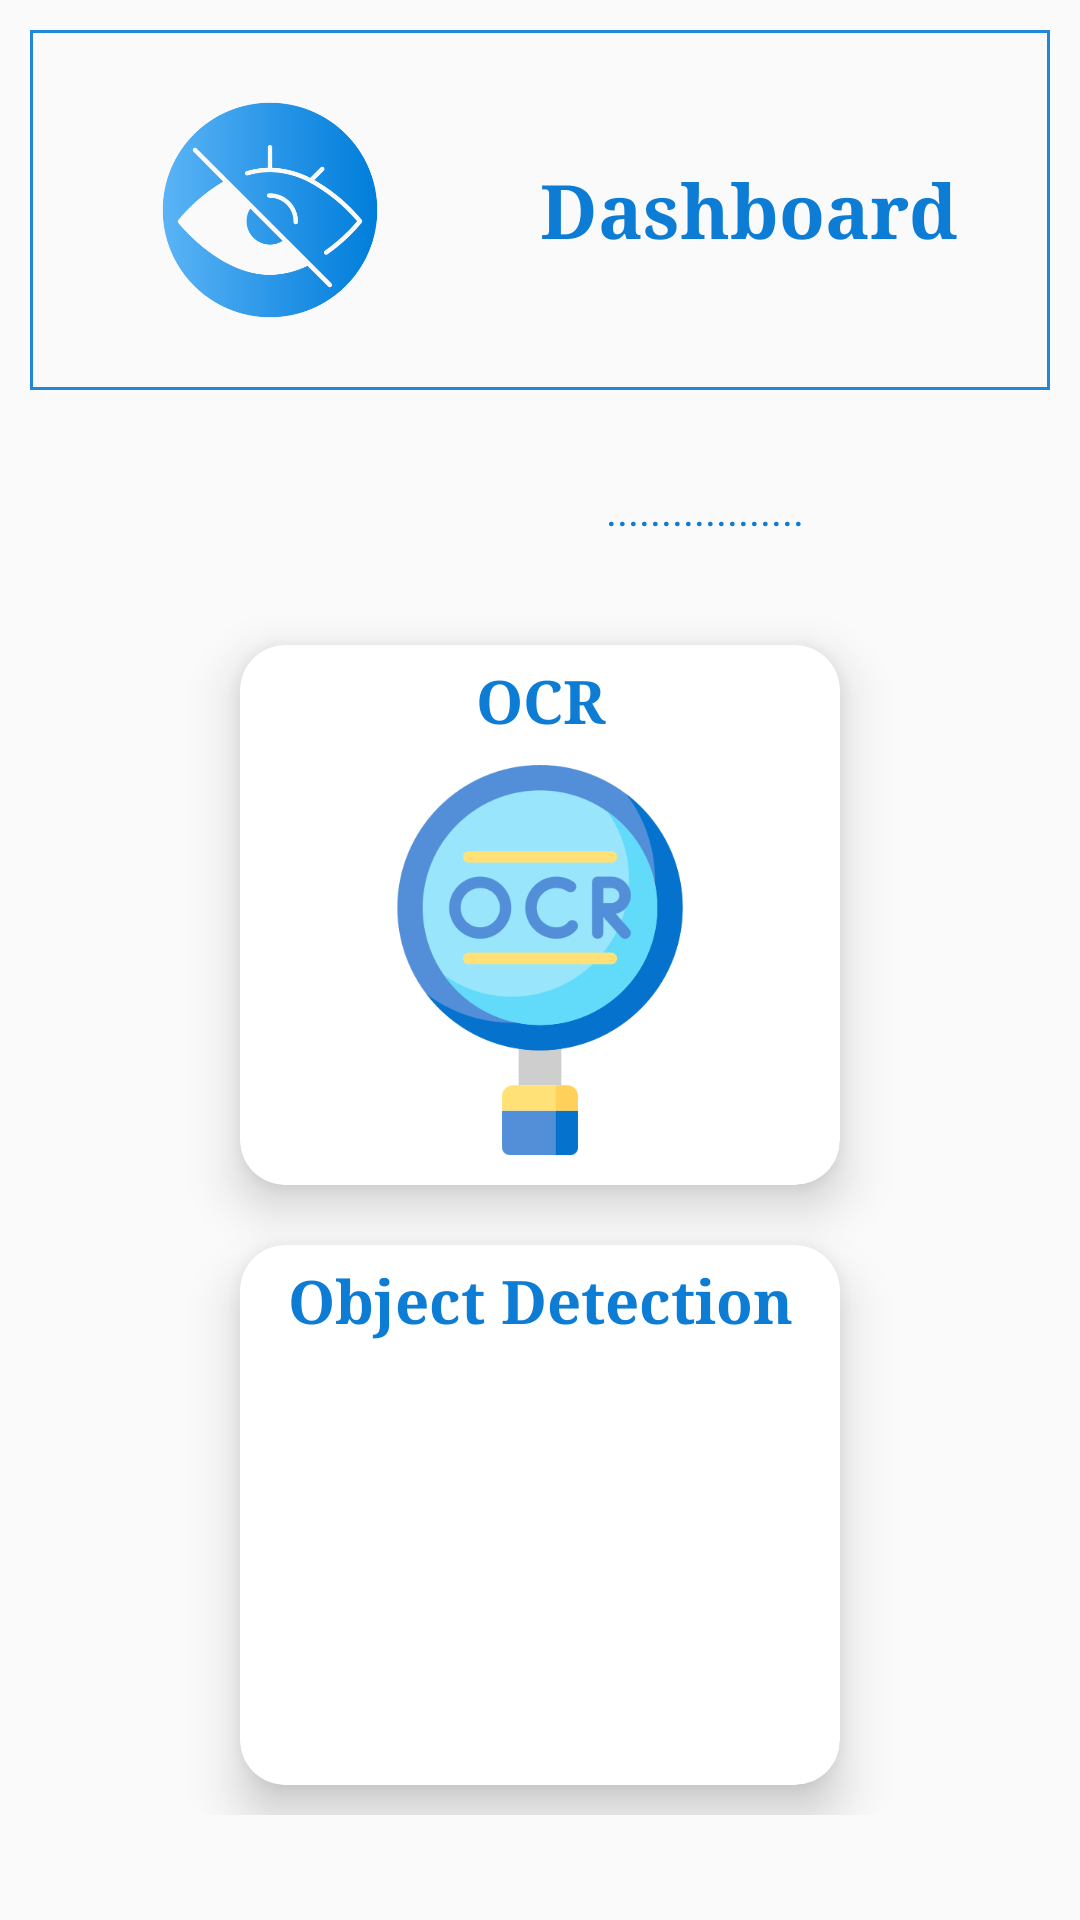

Icons on this 1080x1920 Android screen, each with its box as (x1, y1, x2, y2):
eye: (163, 102, 378, 318)
